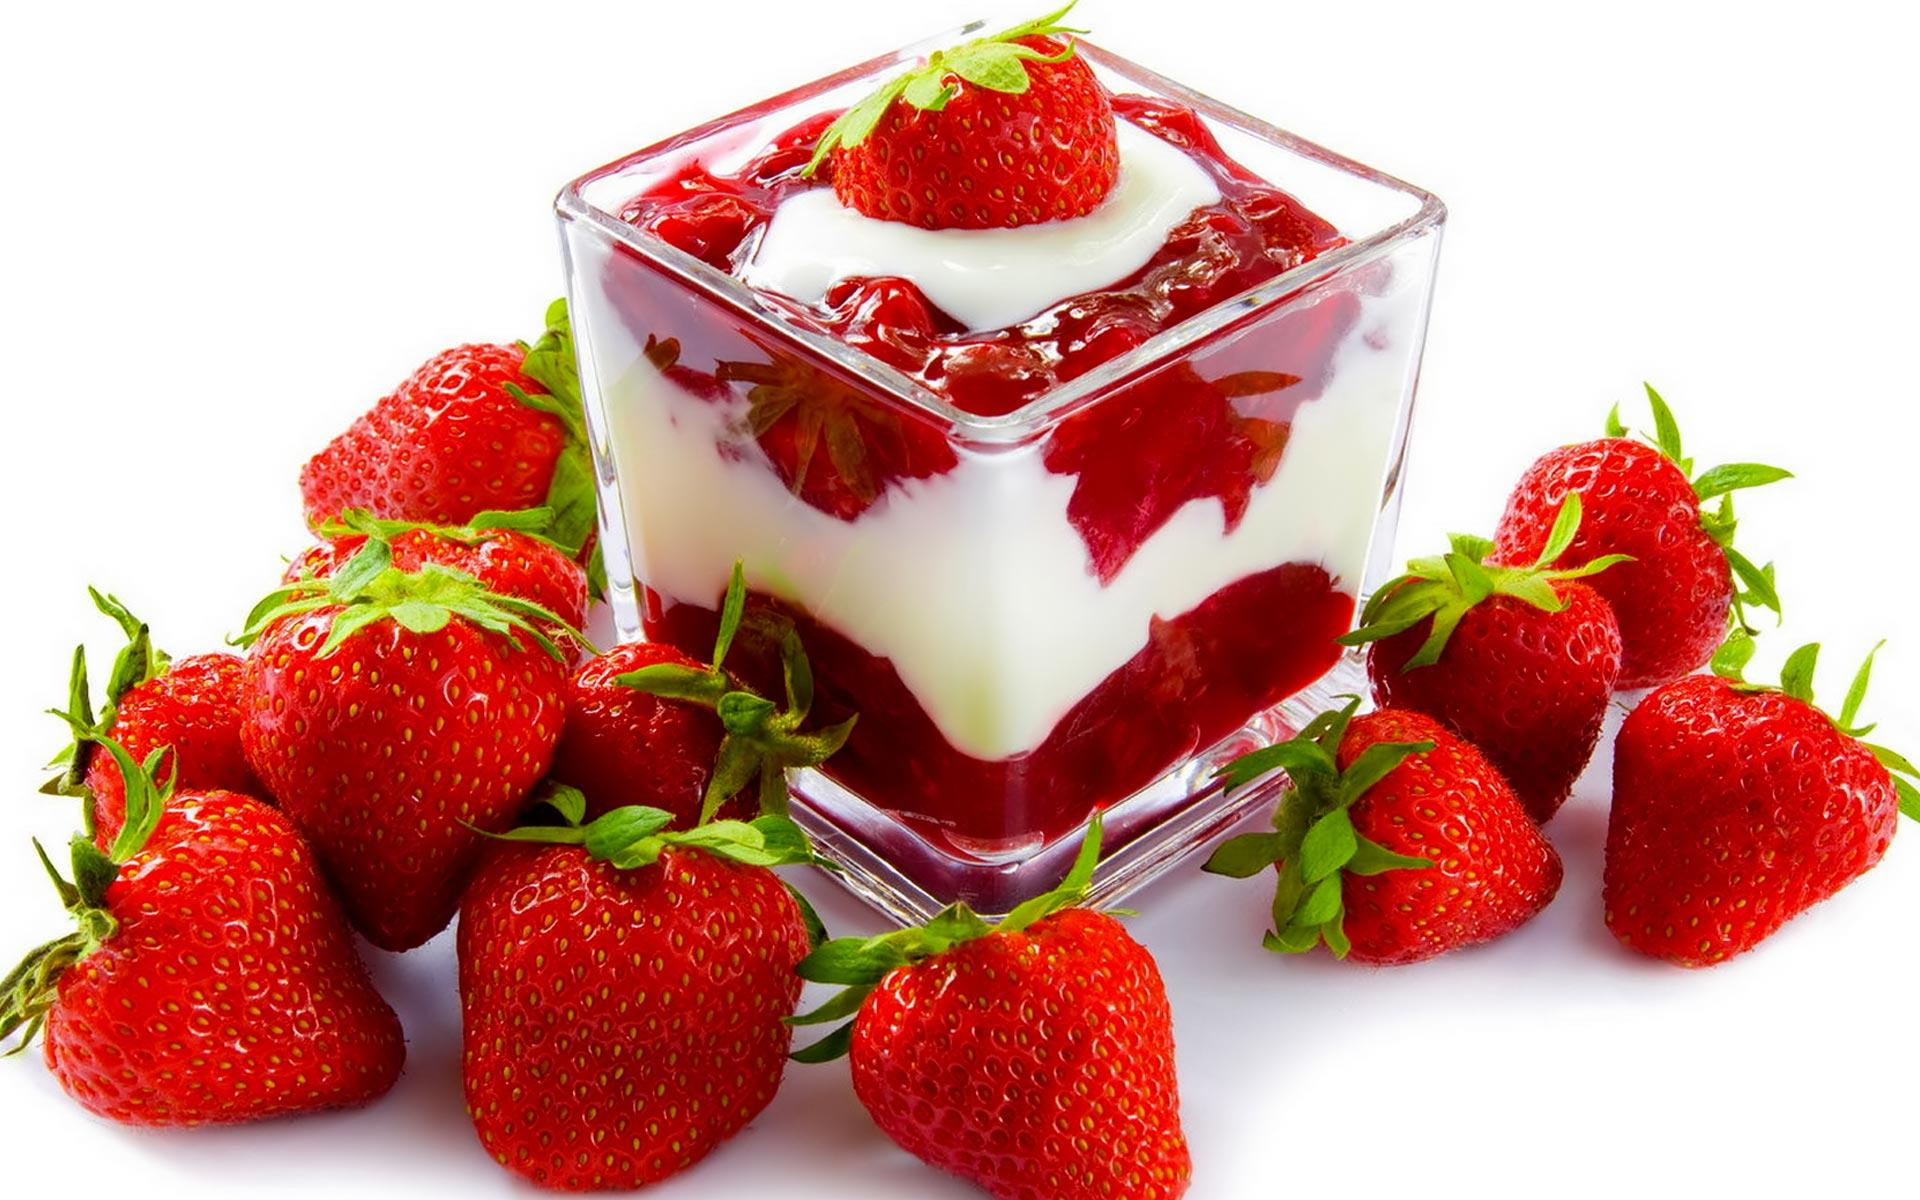strawberry: (14, 784, 419, 1160), (427, 821, 824, 1200), (224, 521, 546, 917), (840, 876, 1218, 1200), (1599, 661, 1901, 984), (1254, 684, 1576, 973), (1514, 413, 1775, 709)
